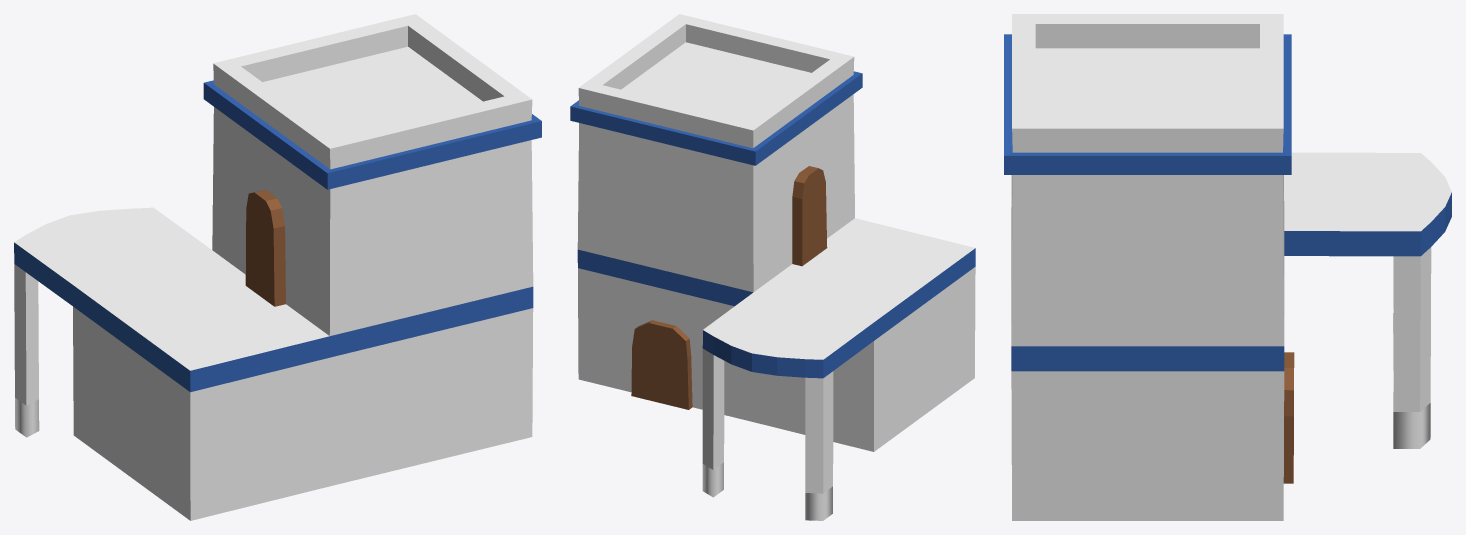
The model's file is house_04.fbx.
The picture shows the model from 3 angles, left to right: view 1: azimuth 30°, elevation 25°; view 2: azimuth 150°, elevation 25°; view 3: azimuth 270°, elevation 25°; orthographic projection. The views are drawn at different scales.
Visible parts, largest first — view 1: house_04; view 2: house_04; view 3: house_04.
Boxes of the visible parts, left/top/right/bottom form: house_04: left=14, top=14, right=541, bottom=520; house_04: left=570, top=14, right=975, bottom=520; house_04: left=1004, top=14, right=1451, bottom=520.
Bounding box in the file's own units: 760 × 782 × 728.
1 material, 1 textured.
